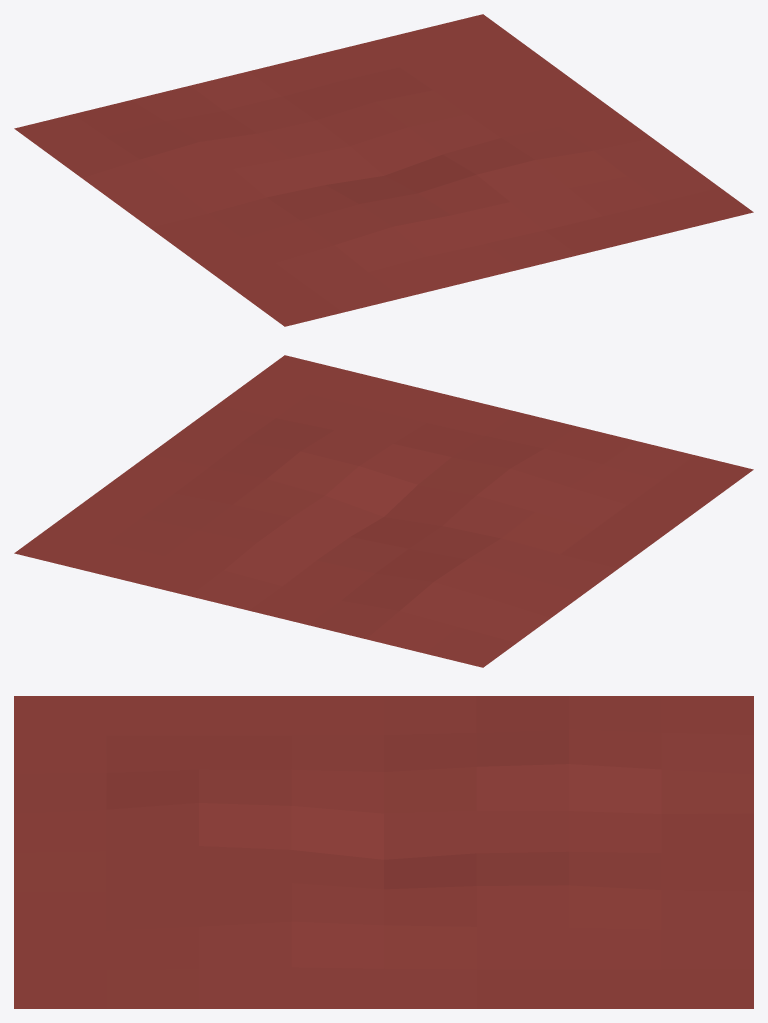
File: Terrain_9_Red.fbx
3 renders of one model, top to bottom at view 1: azimuth 30°, elevation 25°; view 2: azimuth 150°, elevation 25°; view 3: azimuth 270°, elevation 25°, orthographic. The views are drawn at different scales.
Parts seen in each view (by area): view 1: Terrain_9_Red; view 2: Terrain_9_Red; view 3: Terrain_9_Red.
Boxes of the visible parts, <box> form: Terrain_9_Red: <box>14,14,753,326</box>; Terrain_9_Red: <box>14,355,753,667</box>; Terrain_9_Red: <box>14,696,753,1008</box>.
Size of the model in its own units: 4000 by 106 by 4000.
